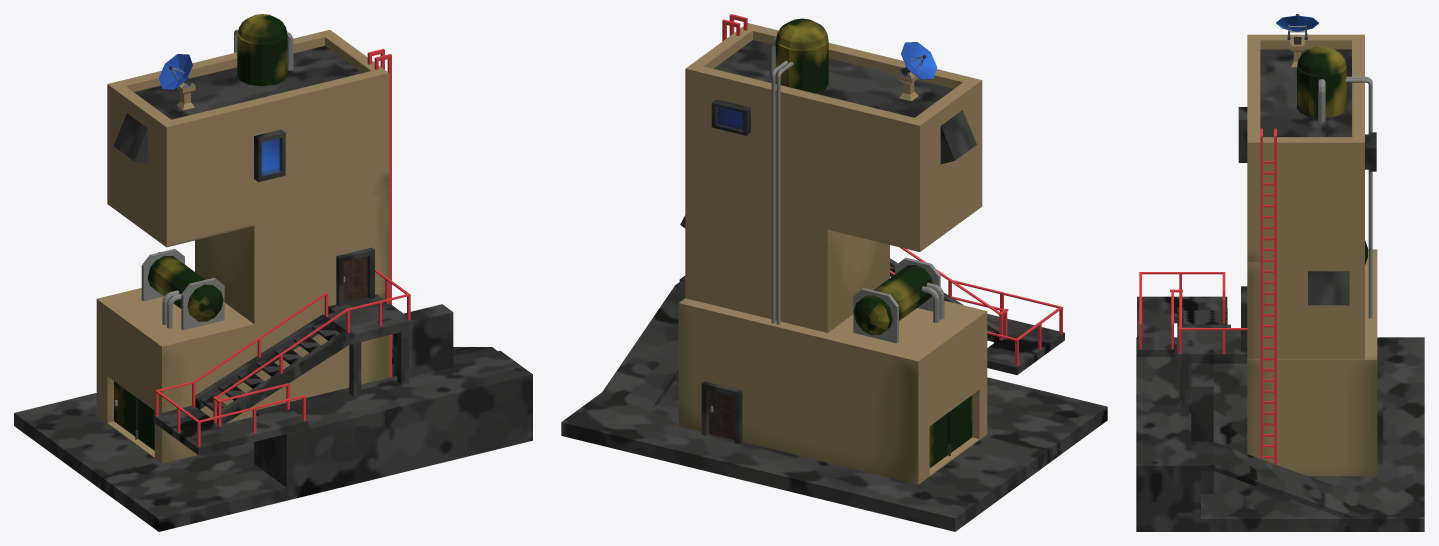
Rendered from Edificio04.fbx.
The picture shows the model from 3 angles, left to right: view 1: azimuth 30°, elevation 25°; view 2: azimuth 150°, elevation 25°; view 3: azimuth 270°, elevation 25°; orthographic projection. The views are drawn at different scales.
Visible parts, largest first — view 1: LOD_0; view 2: LOD_0; view 3: LOD_0.
Boxes of the visible parts, x1,y1,x2,y2 form: LOD_0: (14,14,532,531); LOD_0: (561,14,1107,531); LOD_0: (1136,14,1424,531).
Size of what is drawn, in the model's own units: 1775 by 1795 by 1190.
